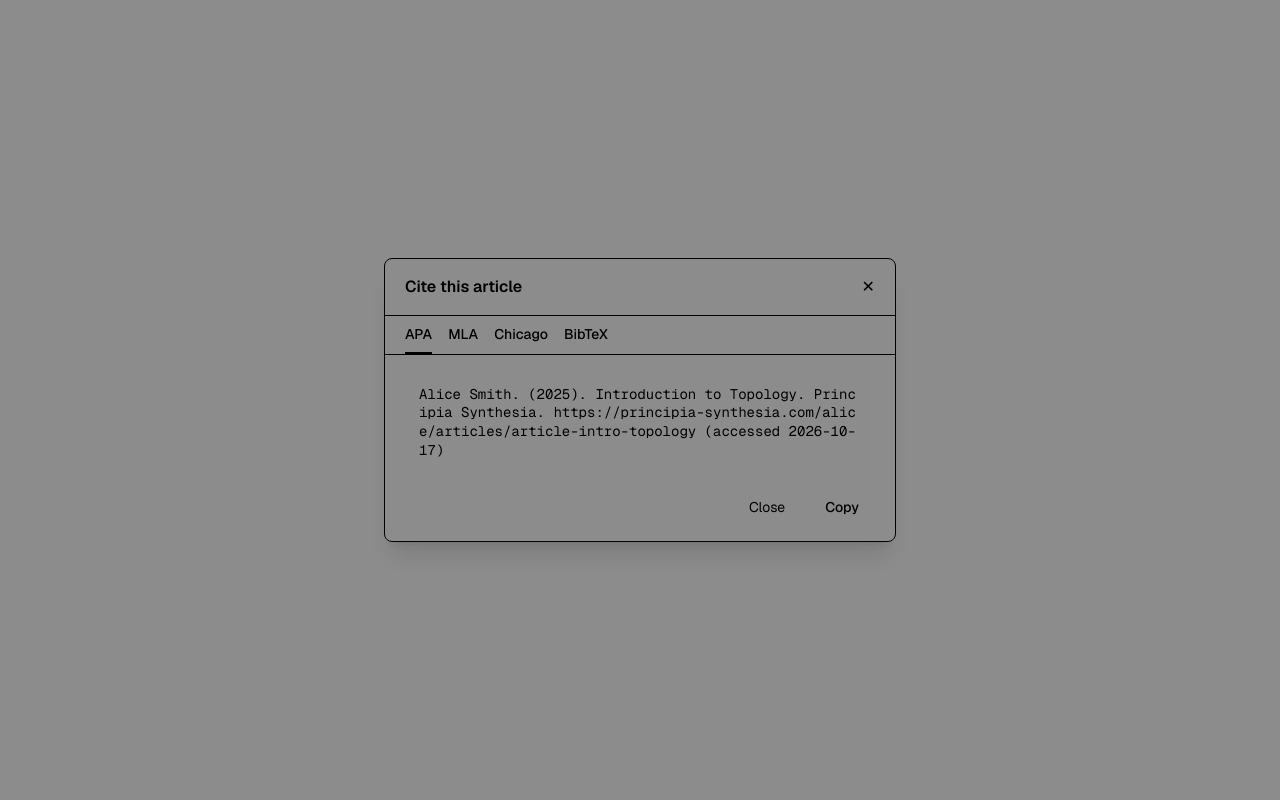
Test: CitationModal › switches to MLA tab when clicked
Click the button "MLA": (463, 335) [448,316,478,354]
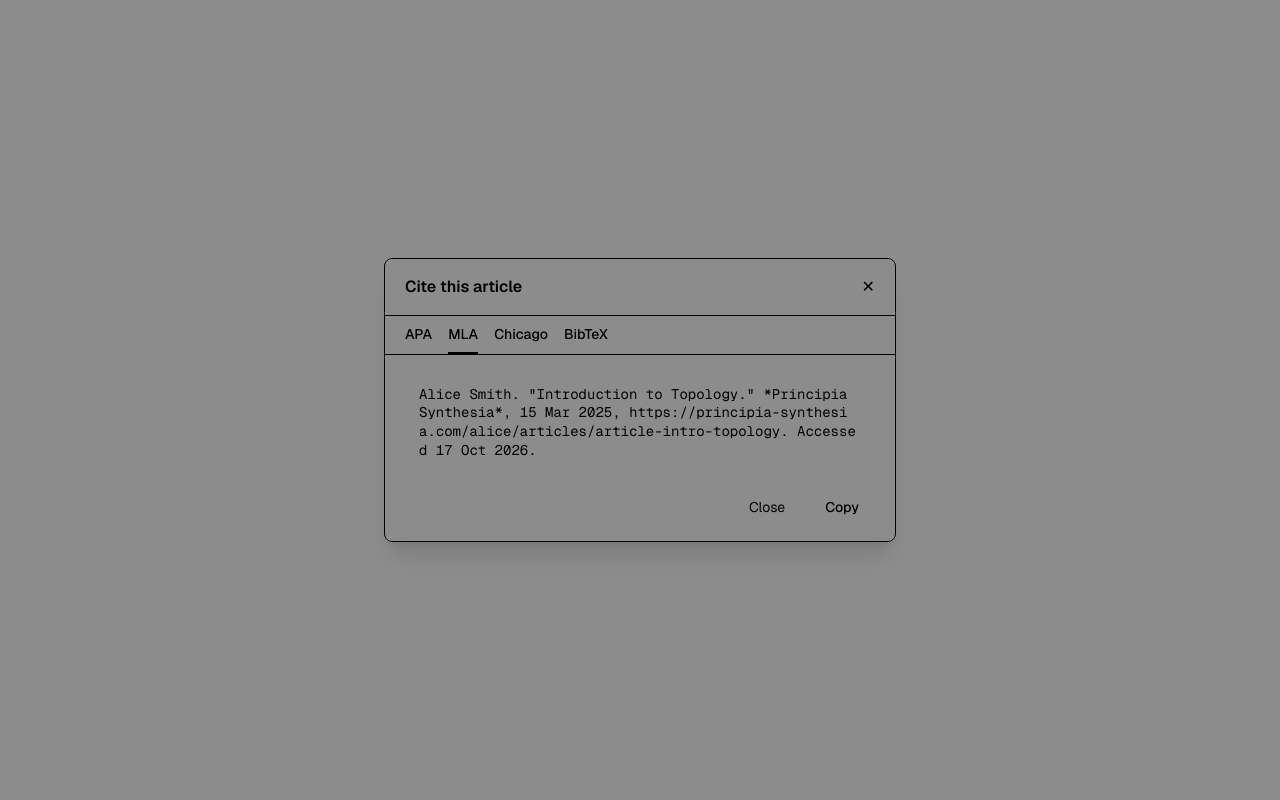
Result: the text "*Principia Synthesia*" is shown at [419,385,856,459]
